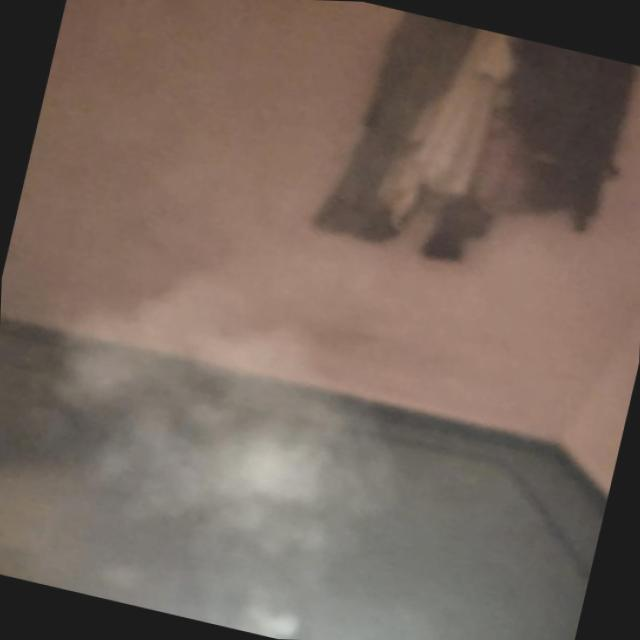smoke: (125, 288, 382, 539)
